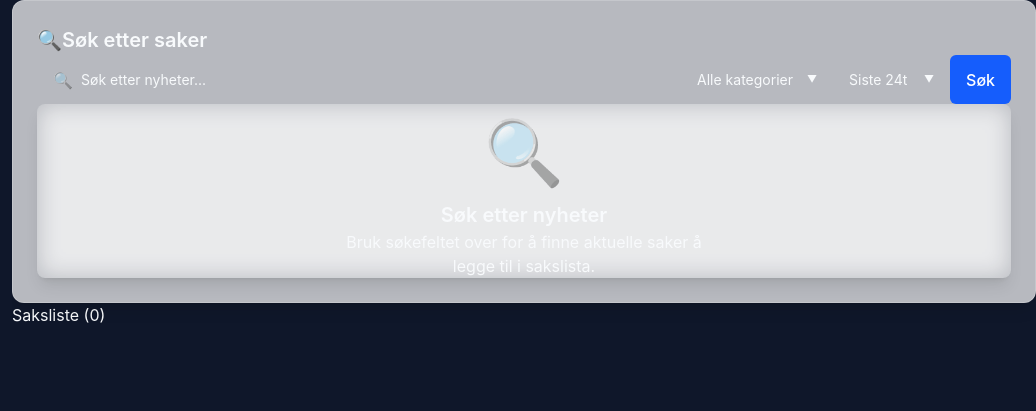
Test case: Search to Saksliste Integration › full workflow › completes full search-to-sak workflow
The width and height of the screenshot is (1036, 411).
Expected: the heading "Saksliste (0)" is shown, [12,305,105,325]
Search for content
In the field with placeholder "Søk etter nyheter...": [359, 80] box [37,55,681,104], type "behind"
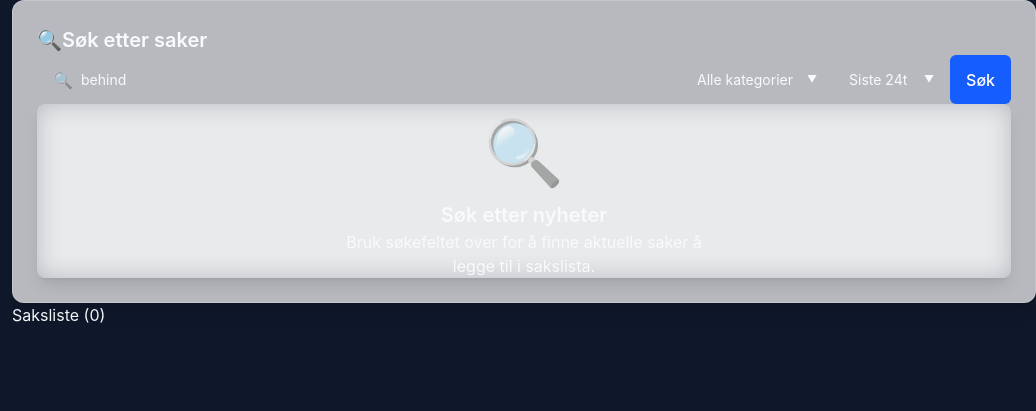
Click the button "Søk": [980, 80] box [950,55,1011,104]
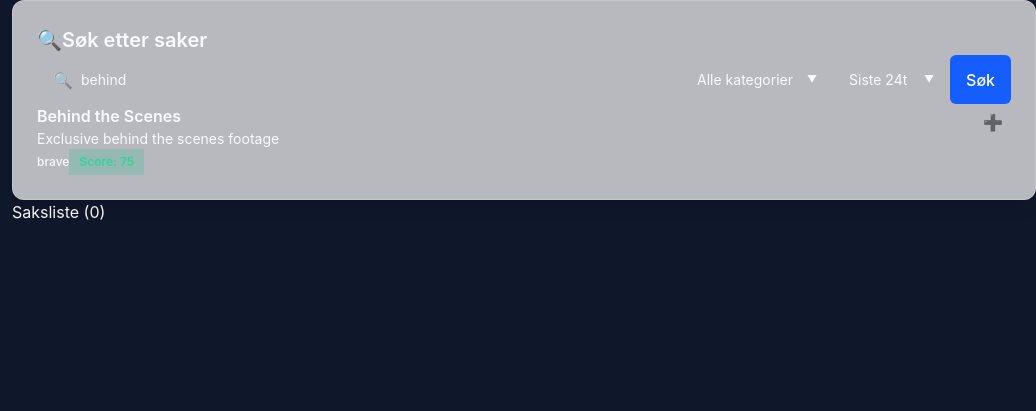
Now the heading "Behind the Scenes" is shown, box [37,106,181,126]
Add to saksliste
Click the button named "Legg til Behind the Scenes": [993, 122] box [975,104,1011,140]
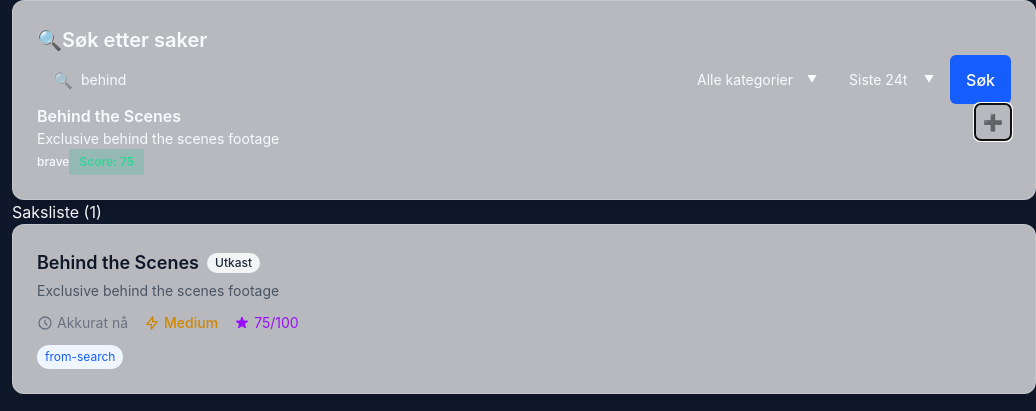
Now the heading "Saksliste (1)" is shown, box [12,202,102,222]
Now the text with test id "sak-status" reads "Utkast", box [215,255,252,270]
